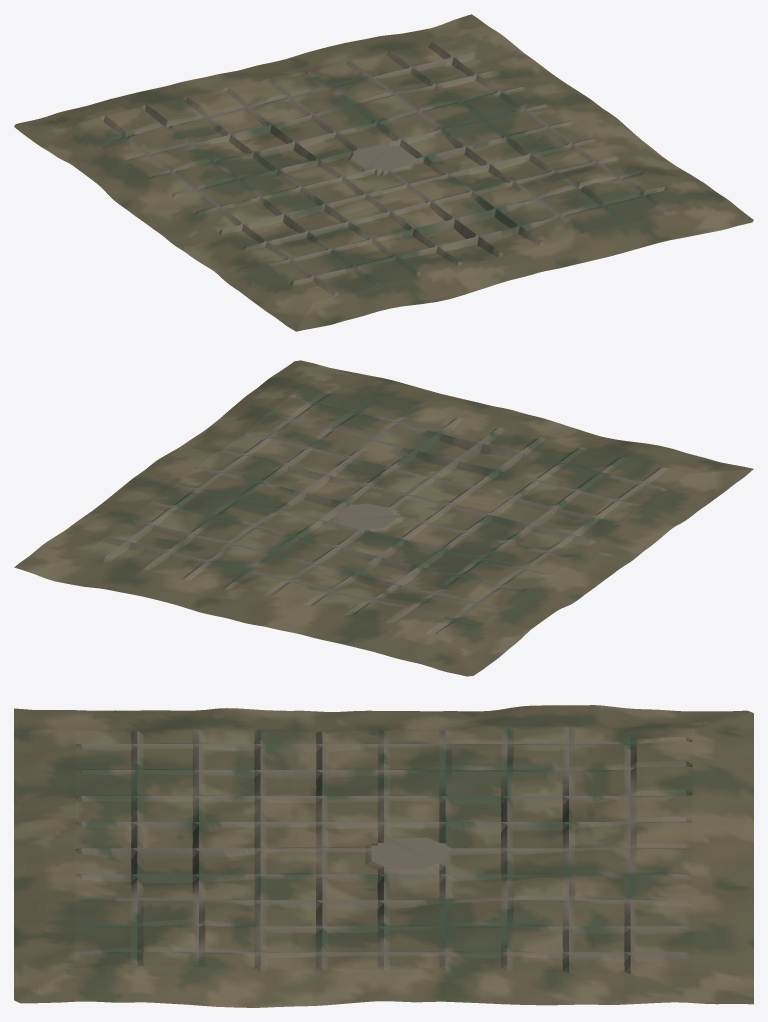
Rendered from sw_seabed_lod1.glb.
3 renders of one model, top to bottom at view 1: azimuth 30°, elevation 25°; view 2: azimuth 150°, elevation 25°; view 3: azimuth 270°, elevation 25°, orthographic. The views are drawn at different scales.
Parts seen in each view (by area): view 1: geometry_0; view 2: geometry_0; view 3: geometry_0.
Boxes of the visible parts, x1,y1,x2,y2 form: geometry_0: (14, 14, 753, 331); geometry_0: (14, 360, 753, 676); geometry_0: (14, 705, 753, 1007).
Bounding box in the file's own units: 560 × 19.97 × 600.
